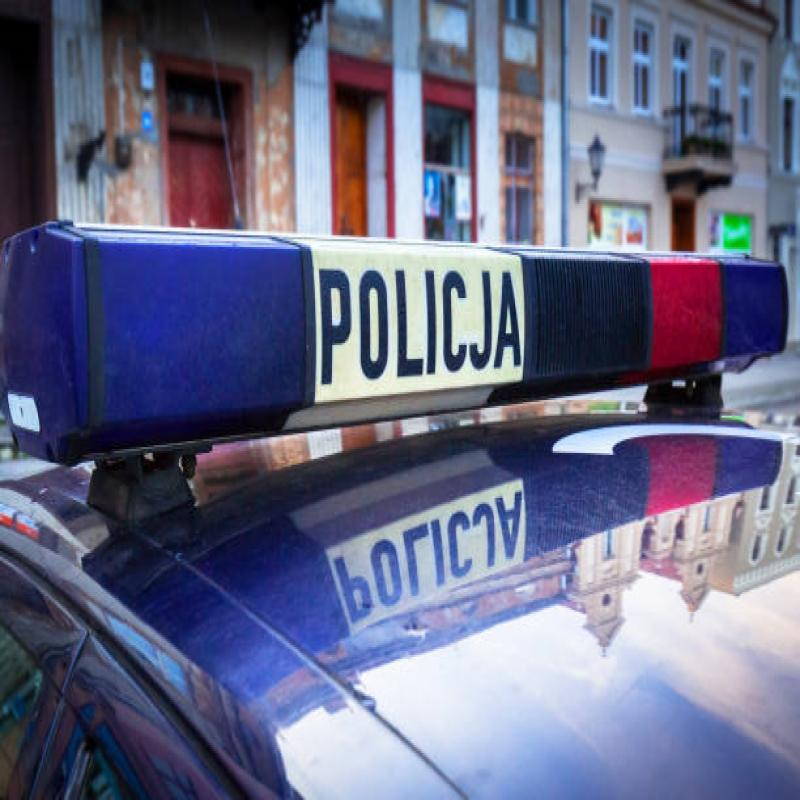AmbulanceSiren: (7, 179, 750, 445)
